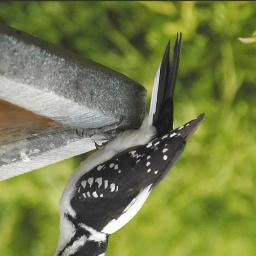Woodpecker: (24, 30, 205, 256)
